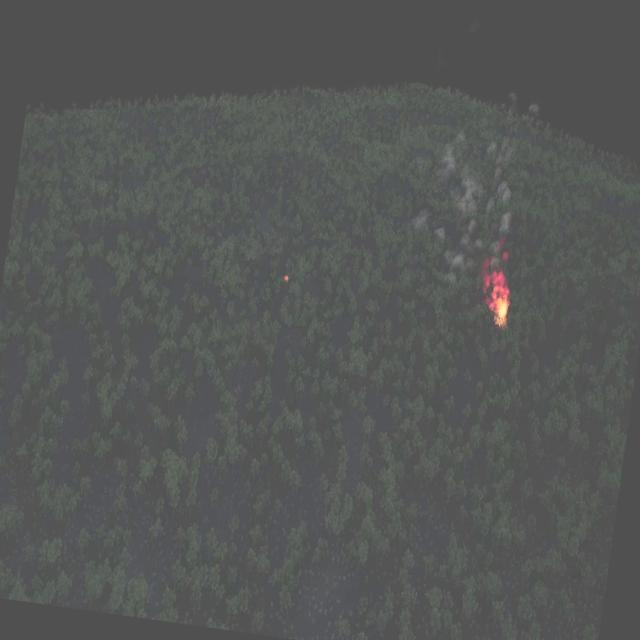fire: (481, 272, 514, 326), (284, 276, 290, 282)
smoke: (404, 128, 528, 297)
